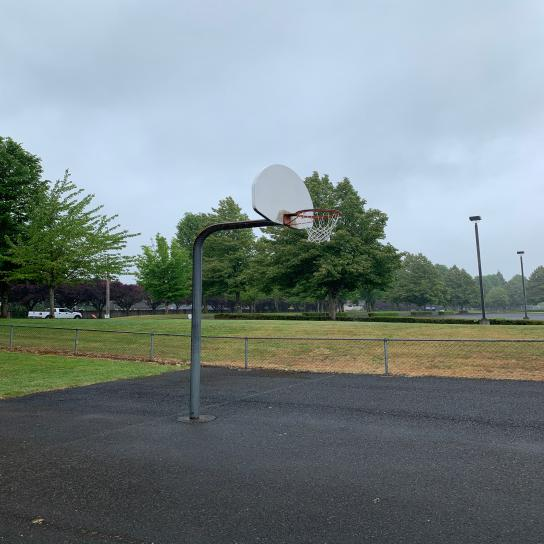basketball-hoop: (294, 208, 343, 244)
